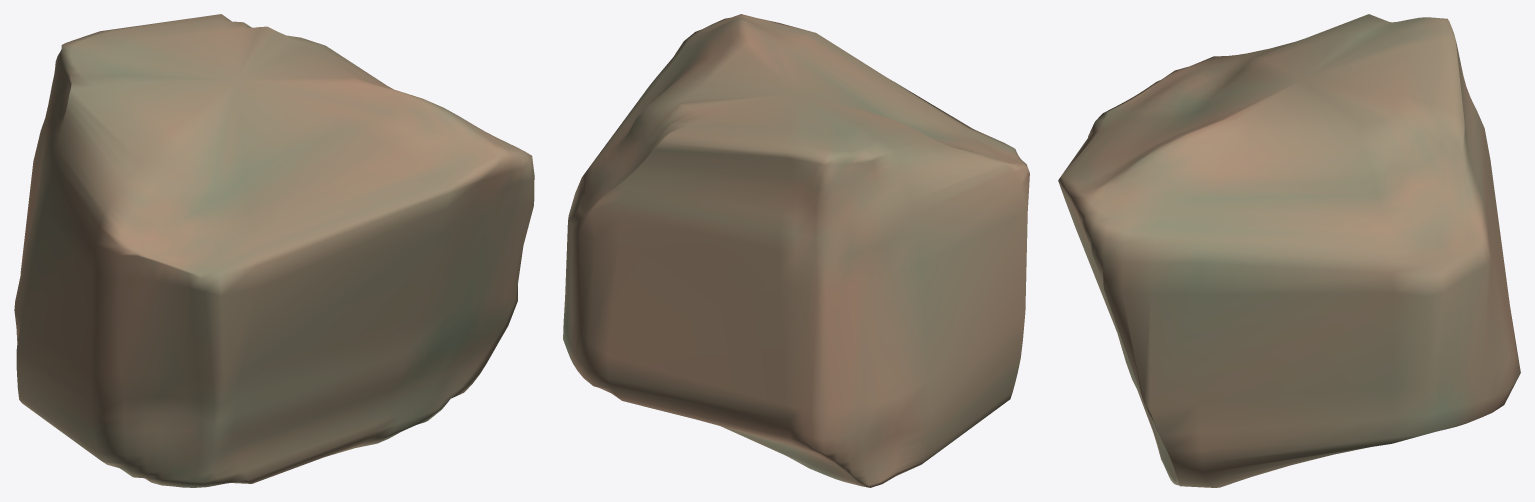
Rendered from SM_Rock_10.glb.
3 renders of one model, left to right at view 1: azimuth 30°, elevation 25°; view 2: azimuth 150°, elevation 25°; view 3: azimuth 270°, elevation 25°, orthographic. The views are drawn at different scales.
Parts seen in each view (by area): view 1: SM_Rock_10; view 2: SM_Rock_10; view 3: SM_Rock_10.
Part boxes in pixels (x1,y1,x2,y2): SM_Rock_10: (14, 14, 534, 487); SM_Rock_10: (563, 14, 1029, 487); SM_Rock_10: (1058, 14, 1520, 487).
Bounding box in the file's own units: 1.01 × 0.8441 × 0.9754.
